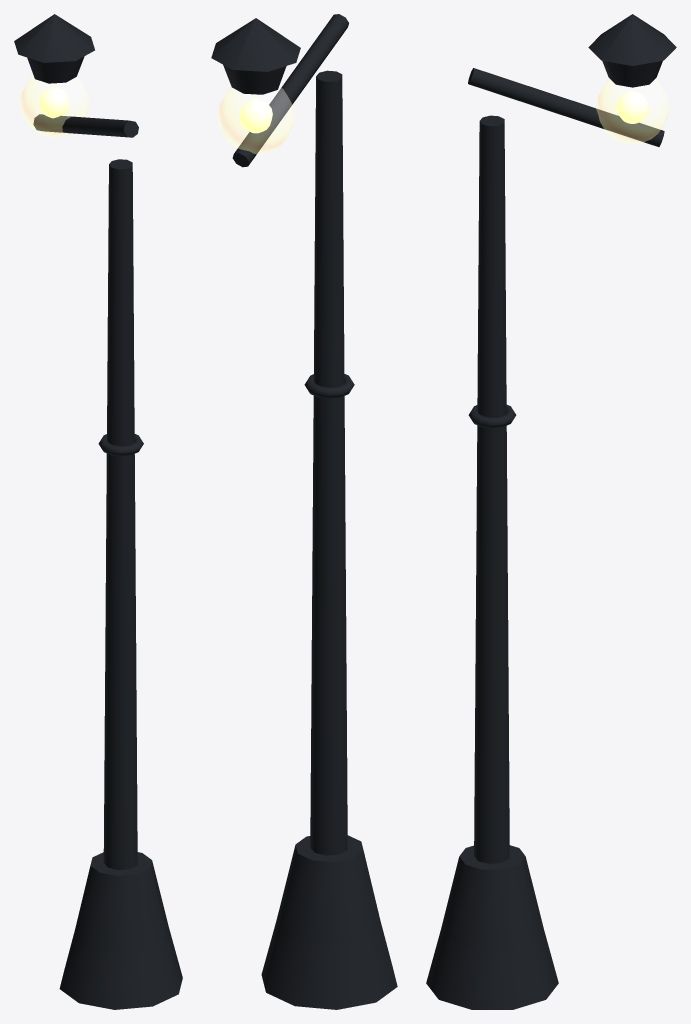
The model's file is street-lamp.glb.
The picture shows the model from 3 angles, left to right: view 1: azimuth 30°, elevation 25°; view 2: azimuth 150°, elevation 25°; view 3: azimuth 270°, elevation 25°; orthographic projection. The views are drawn at different scales.
Parts seen in each view (by area): view 1: LampPole, LampBaseUpper, LampBase, LampGlass, LampCap, LampArm, LampHousing, LampBulb, LampCollar; view 2: LampPole, LampBaseUpper, LampBase, LampGlass, LampArm, LampCap, LampHousing, LampBulb, LampCollar; view 3: LampPole, LampBaseUpper, LampBase, LampGlass, LampArm, LampCap, LampHousing, LampBulb, LampCollar.
Part boxes in pixels (<box>): LampPole: <box>103,159,137,869</box>; LampBaseUpper: <box>73,852,168,953</box>; LampBase: <box>59,929,182,1009</box>; LampGlass: <box>20,76,89,137</box>; LampCap: <box>14,14,94,62</box>; LampArm: <box>33,114,138,137</box>; LampHousing: <box>27,56,84,83</box>; LampBulb: <box>39,87,69,118</box>; LampCollar: <box>98,434,143,456</box>; LampPole: <box>310,70,347,855</box>; LampBaseUpper: <box>276,835,382,947</box>; LampBase: <box>261,920,397,1009</box>; LampGlass: <box>217,86,294,153</box>; LampArm: <box>232,14,348,167</box>; LampCap: <box>211,18,300,71</box>; LampHousing: <box>223,64,286,94</box>; LampBulb: <box>239,99,272,133</box>; LampCollar: <box>304,374,354,398</box>; LampPole: <box>474,115,509,863</box>; LampBaseUpper: <box>441,845,543,950</box>; LampBase: <box>426,930,558,1009</box>; LampGlass: <box>596,79,669,143</box>; LampArm: <box>468,68,664,146</box>; LampCap: <box>588,14,676,65</box>; LampHousing: <box>602,61,662,87</box>; LampBulb: <box>616,91,648,123</box>; LampCollar: <box>468,405,516,428</box>.
Bounding box in the file's own units: 0.3424 × 2.9 × 0.68.
